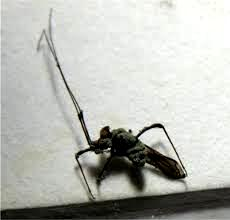Helopeltis-insect: (94, 126, 187, 179)
